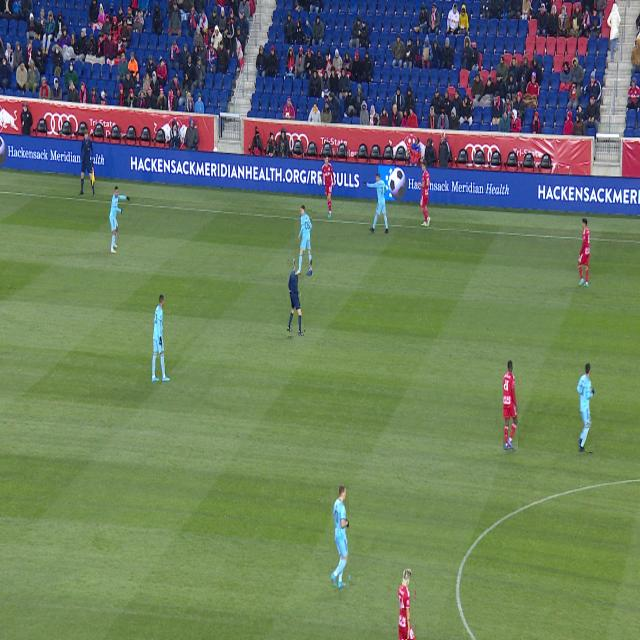player: (332, 485, 349, 588), (577, 363, 595, 452), (152, 294, 170, 382), (364, 173, 388, 233), (109, 186, 130, 253), (503, 360, 518, 450), (399, 568, 415, 640), (296, 206, 312, 275), (578, 218, 590, 287)
referee: (288, 260, 304, 336)
